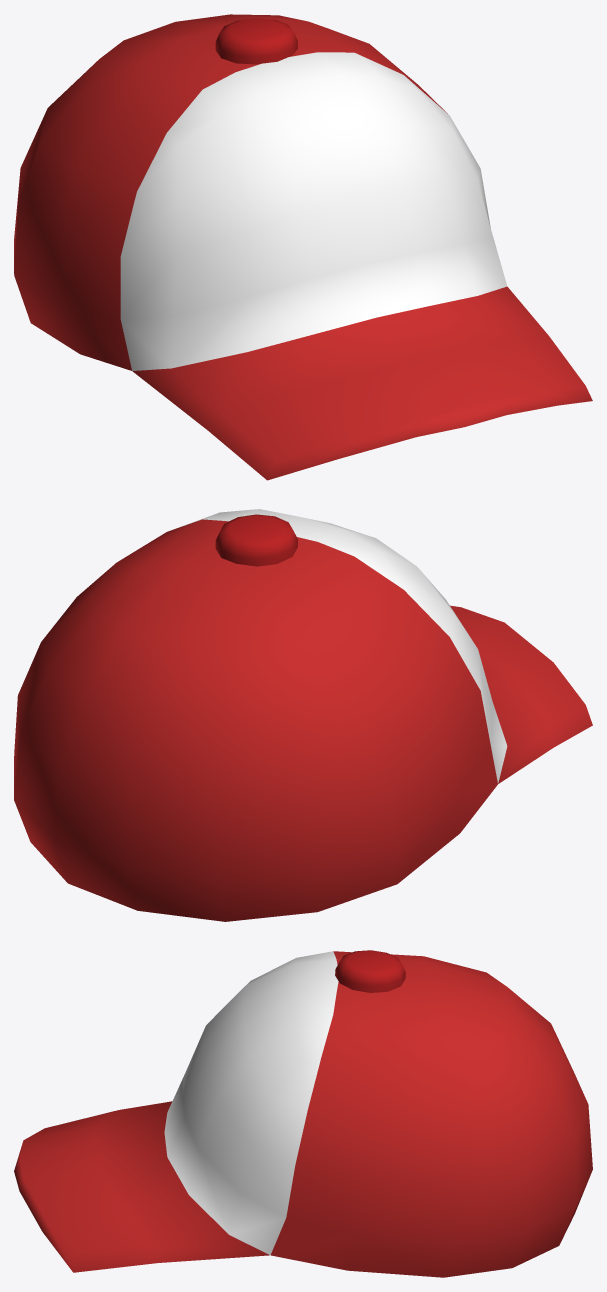
The model's file is redhat.fbx.
3 views of the same model, one above another, from view 1: azimuth 30°, elevation 25°; view 2: azimuth 150°, elevation 25°; view 3: azimuth 270°, elevation 25° (orthographic). The views are drawn at different scales.
Parts seen in each view (by area): view 1: redhat; view 2: redhat; view 3: redhat.
Boxes of the visible parts, left/top/right/bottom form: redhat: left=14, top=14, right=592, bottom=480; redhat: left=14, top=509, right=592, bottom=921; redhat: left=14, top=950, right=592, bottom=1277.
Bounding box in the file's own units: 122 × 87.93 × 181.
